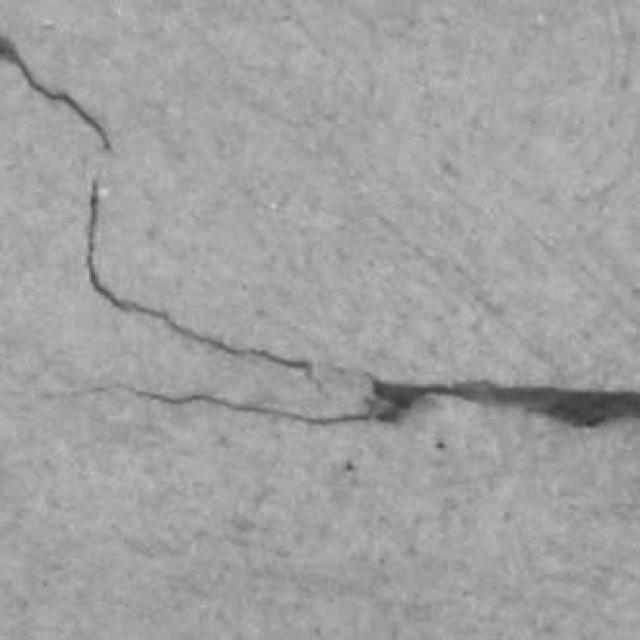crack: (86, 181, 312, 376), (88, 373, 639, 426), (111, 373, 639, 426), (0, 35, 112, 151), (373, 381, 639, 426)
